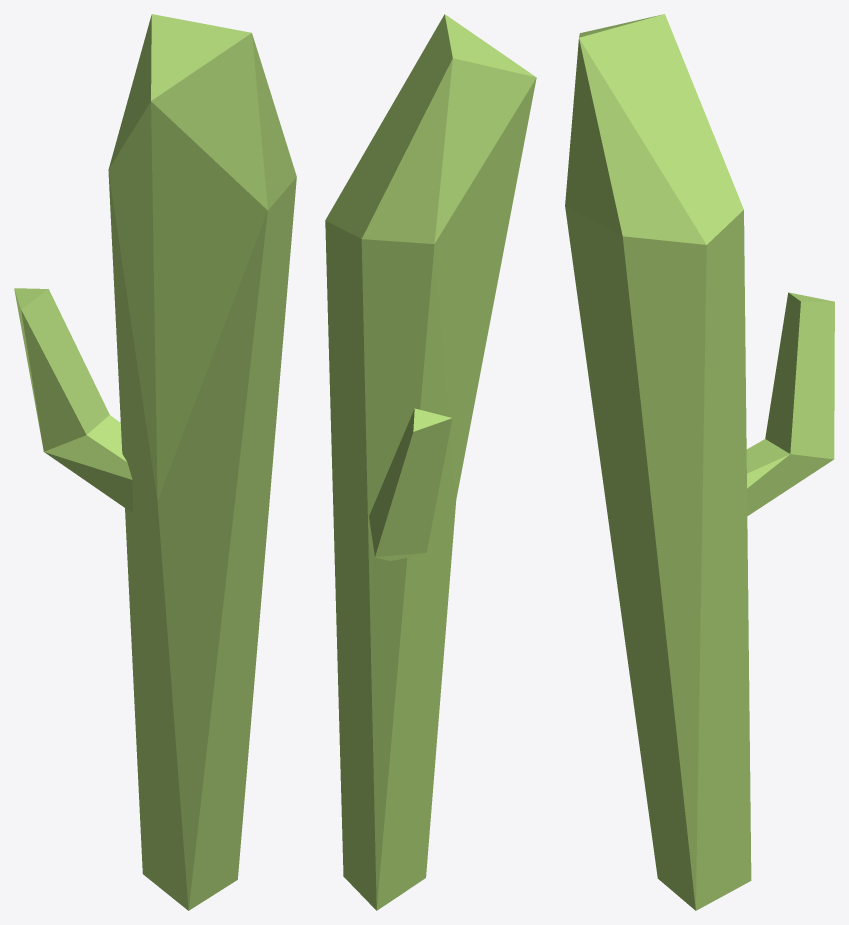
The model's file is Cactus_s_BT_06.fbx.
3 renders of one model, left to right at view 1: azimuth 30°, elevation 25°; view 2: azimuth 150°, elevation 25°; view 3: azimuth 270°, elevation 25°, orthographic. The views are drawn at different scales.
Visible parts, largest first — view 1: Cactus_s_BT_06; view 2: Cactus_s_BT_06; view 3: Cactus_s_BT_06.
Part boxes in pixels (x1,y1,x2,y2): Cactus_s_BT_06: [14, 14, 296, 910]; Cactus_s_BT_06: [325, 14, 536, 910]; Cactus_s_BT_06: [565, 14, 834, 910].
Bounding box in the file's own units: 17.31 × 79.61 × 22.88.
